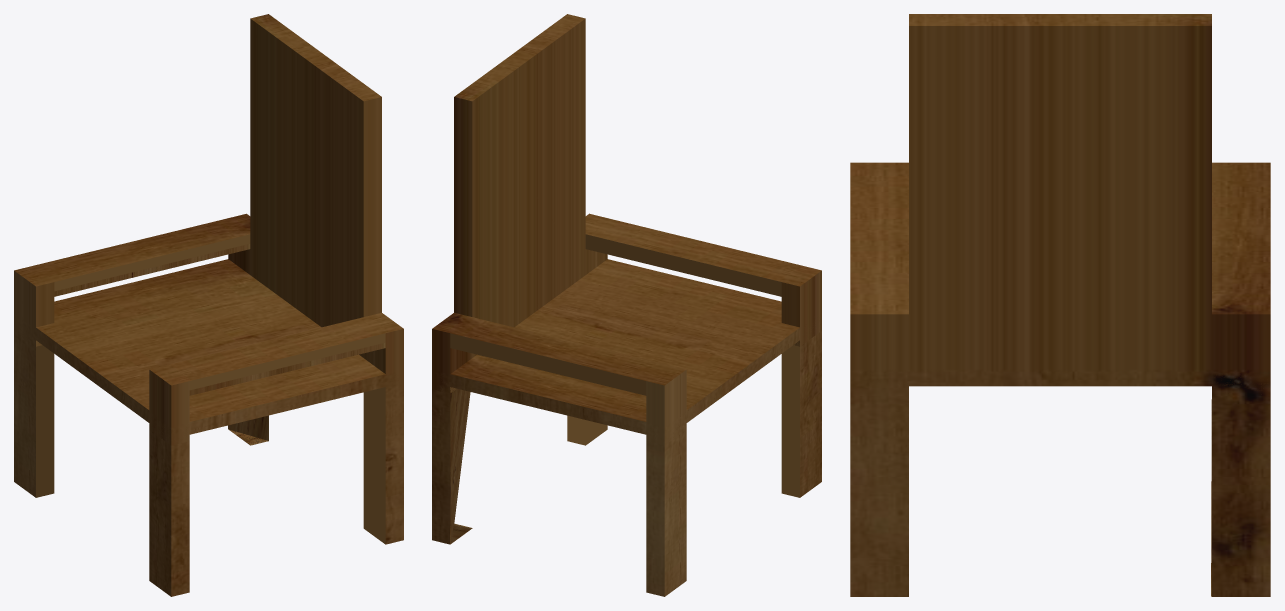
The model's file is stolica.glb.
3 views of the same model, side by side, from view 1: azimuth 30°, elevation 25°; view 2: azimuth 150°, elevation 25°; view 3: azimuth 270°, elevation 25° (orthographic). The views are drawn at different scales.
Visible parts, largest first — view 1: Cube; view 2: Cube; view 3: Cube.
Boxes of the visible parts, x1=… form: Cube: x1=14, y1=14, x2=403, y2=596; Cube: x1=432, y1=14, x2=821, y2=596; Cube: x1=850, y1=14, x2=1270, y2=596.
Size of the model in its own units: 2 by 3.51 by 2.34.
1 material, 1 textured.
